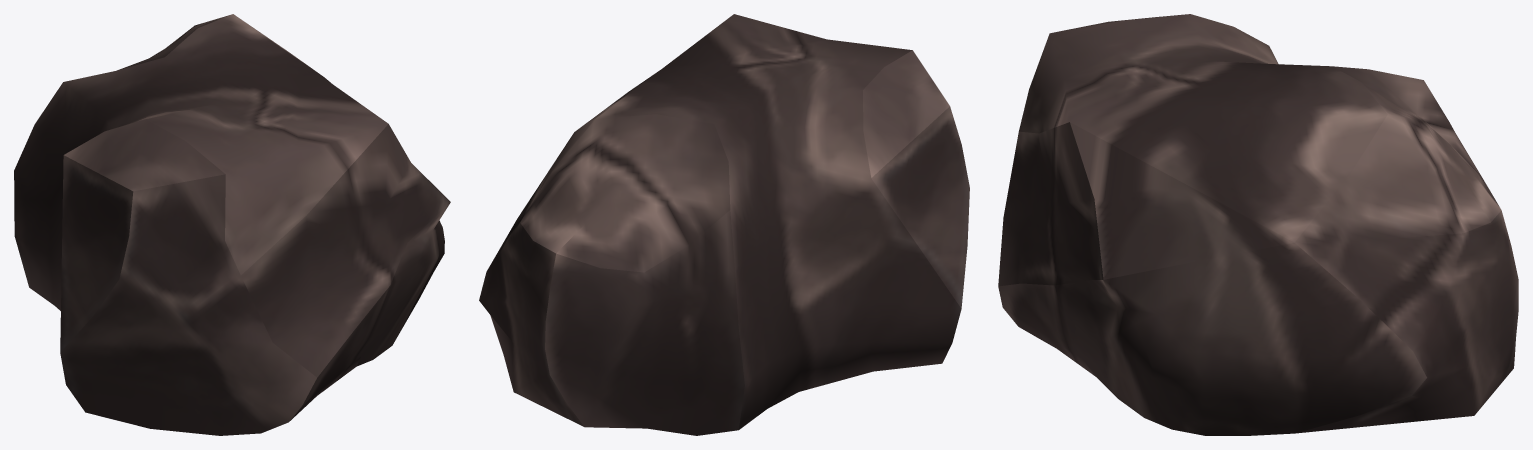
Rendered from rock_10.fbx.
The picture shows the model from 3 angles, left to right: view 1: azimuth 30°, elevation 25°; view 2: azimuth 150°, elevation 25°; view 3: azimuth 270°, elevation 25°; orthographic projection. The views are drawn at different scales.
Visible parts, largest first — view 1: rock_10; view 2: rock_10; view 3: rock_10.
Boxes of the visible parts, x1,y1,x2,y2 form: rock_10: [14, 14, 450, 435]; rock_10: [479, 14, 969, 435]; rock_10: [998, 14, 1518, 435].
Size of the model in its own units: 2.98 by 2.04 by 3.24.
